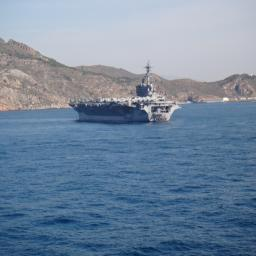Portanaves: (66, 59, 187, 127)
